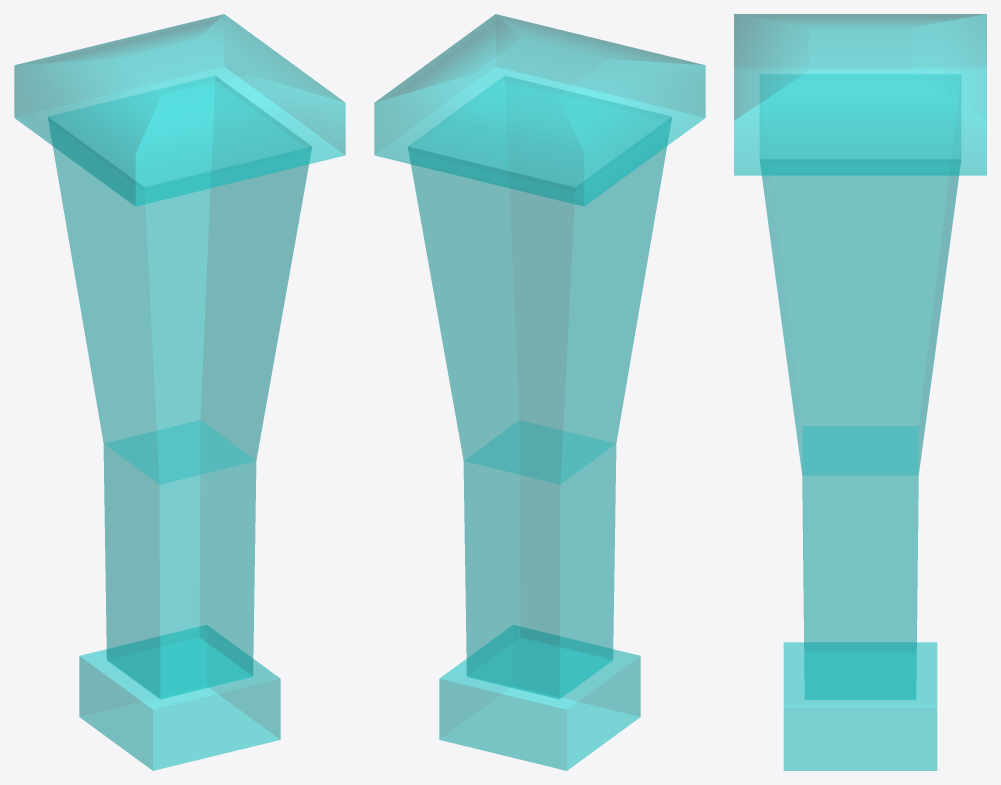
Rendered from SM_Bld_Pillar_02_Collision_01.fbx.
The picture shows the model from 3 angles, left to right: view 1: azimuth 30°, elevation 25°; view 2: azimuth 150°, elevation 25°; view 3: azimuth 270°, elevation 25°; orthographic projection. The views are drawn at different scales.
Visible parts, largest first — view 1: SM_Bld_Pillar_02_Collision_01; view 2: SM_Bld_Pillar_02_Collision_01; view 3: SM_Bld_Pillar_02_Collision_01.
Boxes of the visible parts, left/top/right/bottom form: SM_Bld_Pillar_02_Collision_01: left=14, top=14, right=345, bottom=770; SM_Bld_Pillar_02_Collision_01: left=374, top=14, right=705, bottom=770; SM_Bld_Pillar_02_Collision_01: left=734, top=14, right=986, bottom=770.
Size of the model in its own units: 100 by 302 by 100.
